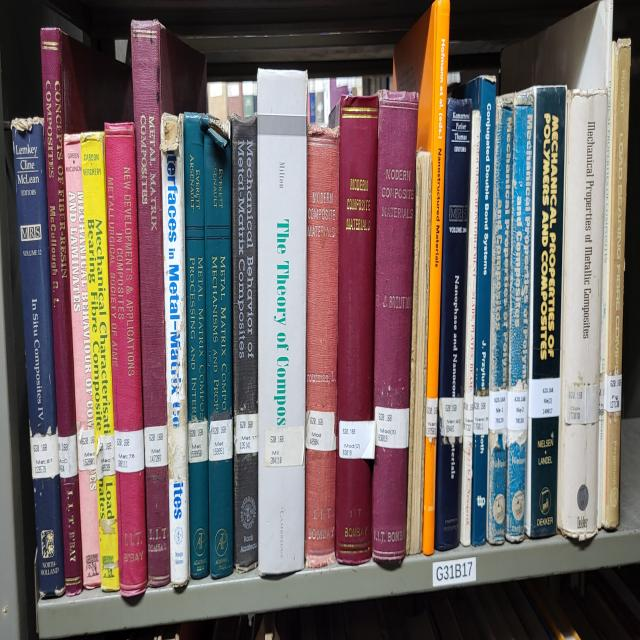Book: (40, 27, 132, 595), (131, 19, 206, 587), (394, 0, 450, 555), (258, 70, 308, 576), (11, 119, 64, 595), (330, 95, 379, 565), (559, 89, 608, 541), (372, 92, 418, 563), (105, 122, 148, 595), (525, 87, 566, 538), (81, 133, 119, 590), (435, 97, 472, 549), (64, 135, 100, 587), (305, 124, 340, 568), (500, 95, 534, 541), (601, 38, 631, 530), (465, 78, 496, 544), (160, 114, 190, 587), (204, 122, 234, 579), (231, 116, 258, 571), (184, 114, 209, 579), (486, 97, 512, 544), (460, 111, 481, 547)
Label: (265, 425, 305, 468), (339, 419, 375, 460), (375, 406, 409, 449), (565, 384, 600, 425), (30, 433, 59, 479), (529, 376, 560, 419), (114, 430, 145, 473), (305, 411, 336, 452), (168, 425, 188, 479), (144, 425, 168, 468), (209, 419, 232, 463), (439, 398, 464, 438), (235, 414, 258, 455), (188, 419, 208, 463), (96, 433, 115, 479), (59, 436, 78, 479), (508, 390, 528, 430), (489, 390, 508, 430), (78, 427, 95, 471), (604, 373, 621, 414), (472, 395, 489, 436), (425, 398, 438, 441), (464, 392, 474, 438)
